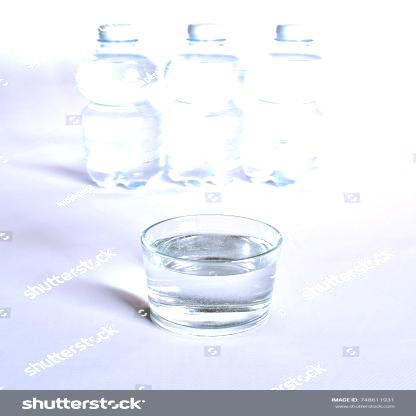bottle: (153, 21, 256, 188), (244, 16, 334, 188), (78, 21, 164, 191)
